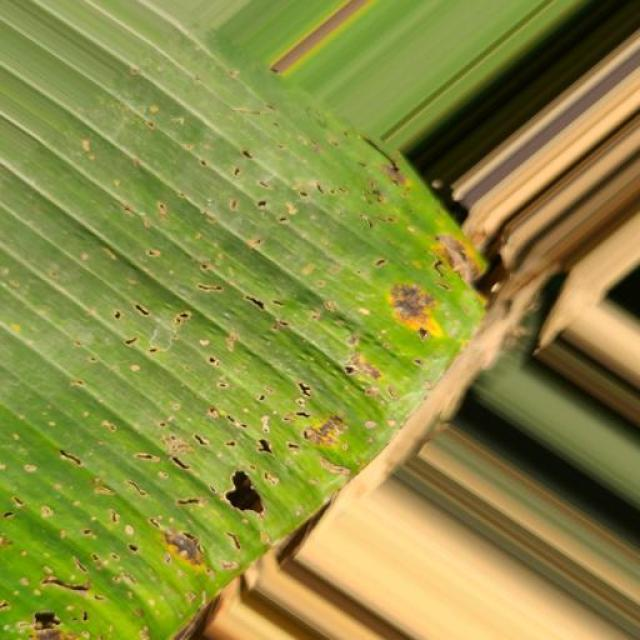Black_rot: (3, 94, 480, 640)
